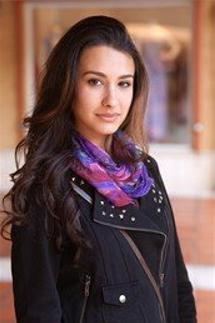Sober: (77, 49, 134, 130)
